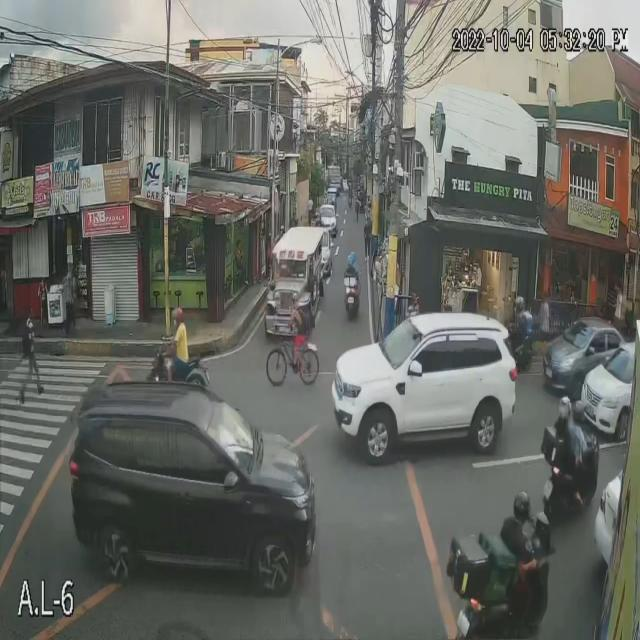full: (558, 389, 572, 424), (572, 396, 586, 429)
half: (512, 491, 532, 526), (170, 308, 185, 330)
